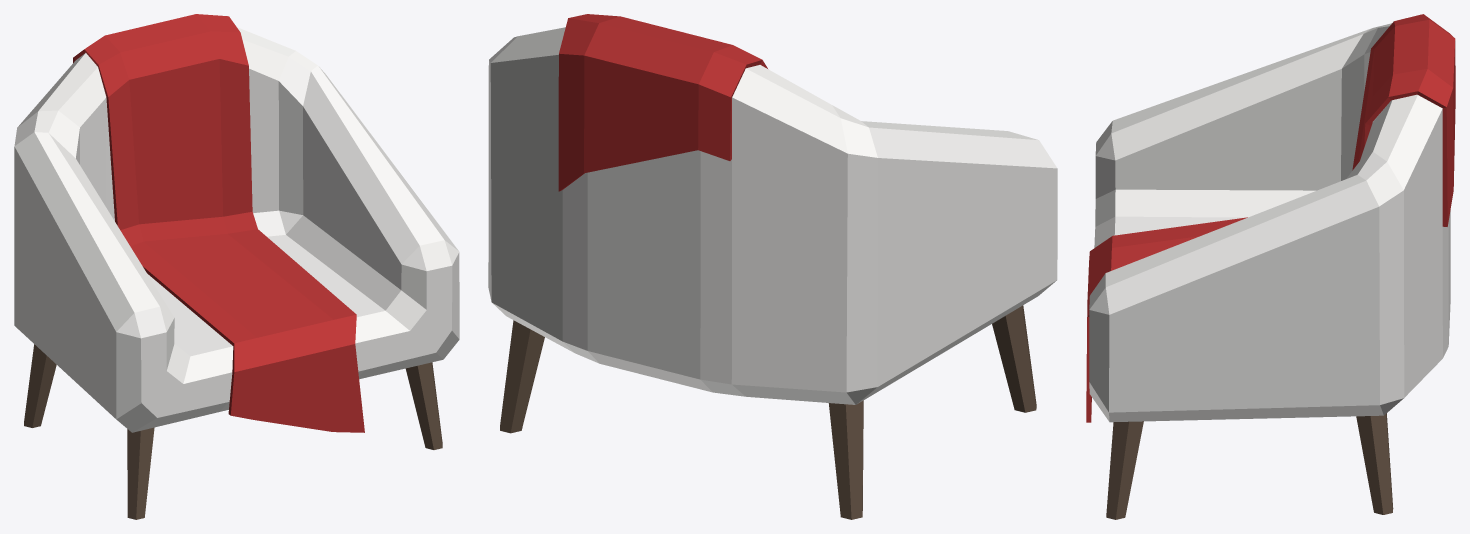
The model's file is Armchair_5.fbx.
3 renders of one model, left to right at view 1: azimuth 30°, elevation 25°; view 2: azimuth 150°, elevation 25°; view 3: azimuth 270°, elevation 25°, orthographic. The views are drawn at different scales.
Visible parts, largest first — view 1: Armchair_5; view 2: Armchair_5; view 3: Armchair_5.
Part boxes in pixels (left/top/right/bottom): Armchair_5: left=14, top=14, right=459, bottom=519; Armchair_5: left=488, top=14, right=1057, bottom=519; Armchair_5: left=1086, top=14, right=1455, bottom=519.
Bounding box in the file's own units: 115 × 97.35 × 114.
